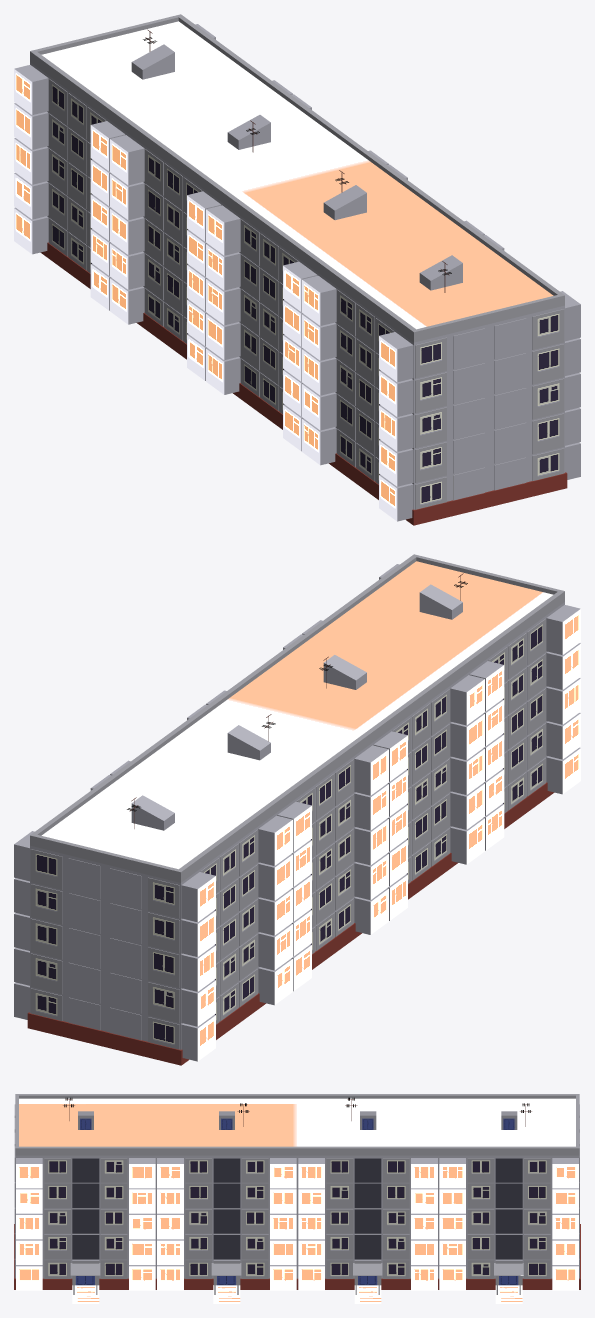
Rendered from apartment.glb.
3 renders of one model, top to bottom at view 1: azimuth 30°, elevation 25°; view 2: azimuth 150°, elevation 25°; view 3: azimuth 270°, elevation 25°, orthographic. The views are drawn at different scales.
Visible parts, largest first — view 1: Apartment; view 2: Apartment; view 3: Apartment.
Part boxes in pixels (<box>): Apartment: <box>14,14,580,525</box>; Apartment: <box>14,554,580,1065</box>; Apartment: <box>14,1094,580,1303</box>.
Bounding box in the file's own units: 15.75 × 16 × 50.72.
Materials: 22 (22 with a texture image).
